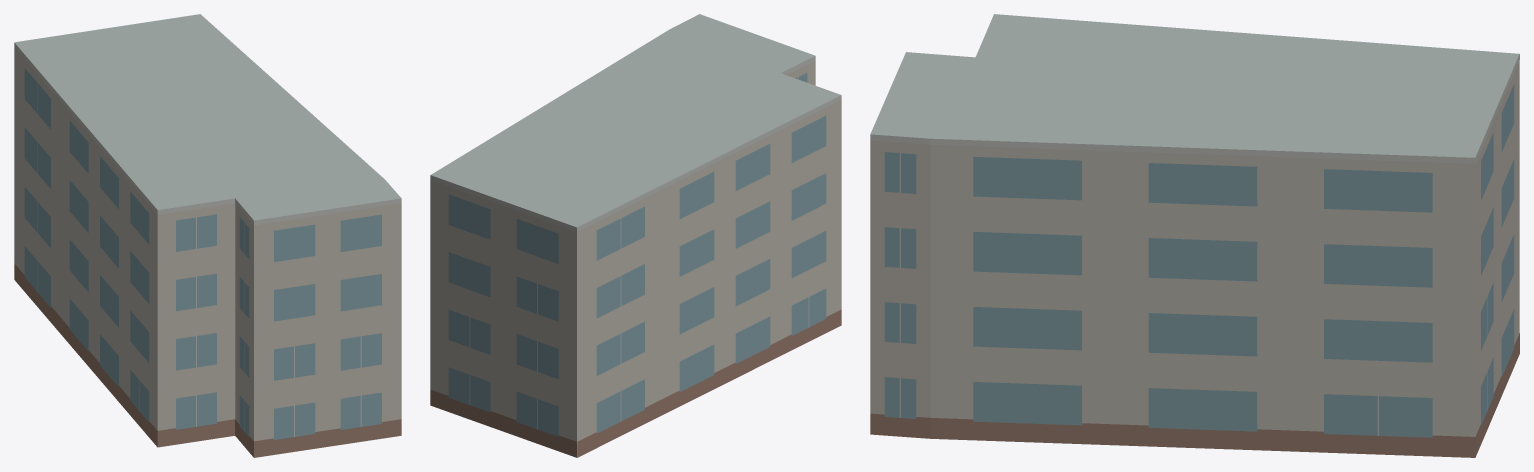
Rendered from survey-upis-32497704.glb.
3 renders of one model, left to right at view 1: azimuth 30°, elevation 25°; view 2: azimuth 150°, elevation 25°; view 3: azimuth 270°, elevation 25°, orthographic. The views are drawn at different scales.
Visible parts, largest first — view 1: survey-upis-32497704.tmp; view 2: survey-upis-32497704.tmp; view 3: survey-upis-32497704.tmp.
Boxes of the visible parts, x1=… form: survey-upis-32497704.tmp: x1=14, y1=14, x2=401, y2=457; survey-upis-32497704.tmp: x1=430, y1=14, x2=841, y2=457; survey-upis-32497704.tmp: x1=870, y1=14, x2=1519, y2=457.
Size of the model in its own units: 12.55 by 12.2 by 23.94.
